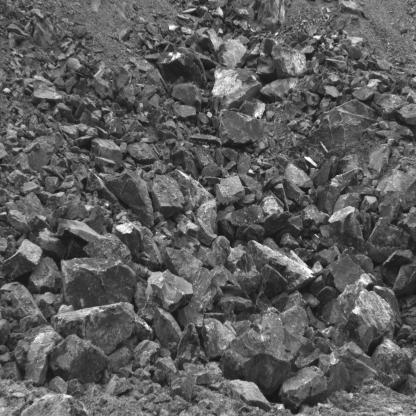stone: (331, 289, 396, 349), (308, 99, 377, 155), (212, 64, 261, 111), (364, 217, 411, 263), (315, 169, 358, 216), (339, 342, 375, 394), (159, 45, 203, 86), (169, 170, 211, 212), (18, 193, 67, 228), (323, 253, 365, 293), (378, 169, 416, 212), (375, 339, 407, 387), (27, 257, 62, 294), (375, 283, 402, 325), (91, 138, 123, 171), (115, 224, 141, 261), (36, 229, 68, 259), (198, 236, 230, 266), (86, 172, 118, 202), (223, 205, 265, 227), (217, 40, 249, 68), (374, 92, 406, 119), (282, 163, 318, 187), (393, 262, 416, 295), (31, 84, 68, 104), (142, 236, 164, 269), (171, 230, 200, 255), (379, 193, 403, 223), (172, 152, 198, 178), (260, 190, 286, 215), (237, 98, 265, 118), (93, 76, 116, 100), (6, 210, 30, 233), (283, 181, 307, 204), (333, 193, 362, 212), (63, 200, 90, 220), (111, 66, 130, 94), (28, 215, 52, 236), (146, 106, 172, 125), (54, 103, 76, 125), (87, 207, 105, 233), (15, 338, 30, 369), (350, 86, 379, 102), (174, 103, 197, 123), (116, 85, 135, 109), (345, 184, 380, 197), (314, 159, 332, 184), (1, 362, 23, 382), (78, 108, 100, 127), (397, 103, 416, 125), (207, 29, 223, 55), (236, 175, 262, 191), (104, 113, 122, 135), (301, 204, 318, 227), (218, 146, 240, 163), (391, 71, 408, 93), (325, 54, 347, 71), (71, 162, 90, 181), (256, 56, 275, 75), (190, 134, 221, 145), (46, 192, 67, 208), (317, 83, 341, 97), (348, 43, 370, 58), (0, 318, 12, 345), (360, 195, 378, 213), (138, 85, 158, 101), (236, 154, 251, 175), (20, 181, 42, 195), (369, 71, 390, 85), (202, 163, 222, 177), (259, 38, 275, 55), (44, 177, 60, 193), (313, 211, 330, 226), (61, 125, 79, 139), (9, 170, 27, 184), (306, 92, 321, 107), (376, 131, 404, 139), (65, 76, 77, 94), (150, 162, 167, 174), (34, 123, 47, 138), (129, 119, 143, 132), (28, 115, 39, 131), (145, 23, 158, 36), (52, 76, 65, 89), (210, 7, 225, 18), (183, 35, 198, 44), (52, 109, 62, 122), (165, 119, 176, 130), (88, 61, 99, 71), (378, 121, 390, 130), (137, 33, 144, 46), (185, 211, 195, 220)
